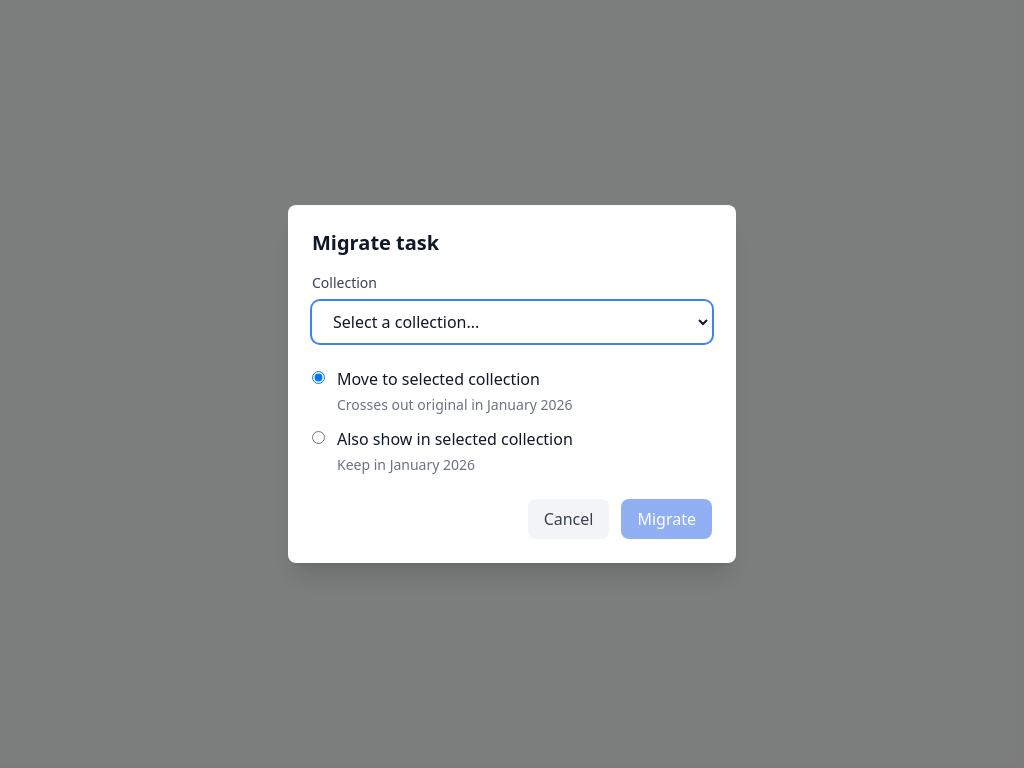
Test: MigrateEntryDialog - Error Handling › Migration Errors › should display error message when migration fails
The width and height of the screenshot is (1024, 768).
Select a collection first
Select "Saturday, January 24, 2026" in the dropdown labelled "Collection" at (512, 322), box x1=312 y1=301 x2=712 y2=343
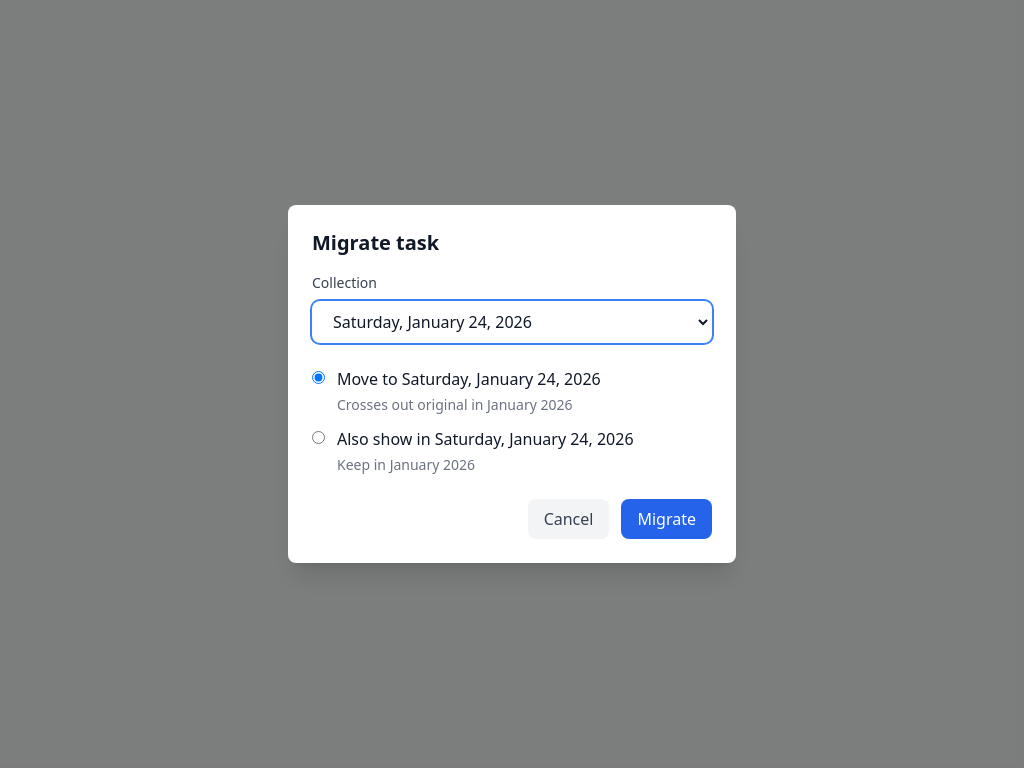
Click the button "Migrate".
click(667, 519)  # box x1=622 y1=499 x2=712 y2=539
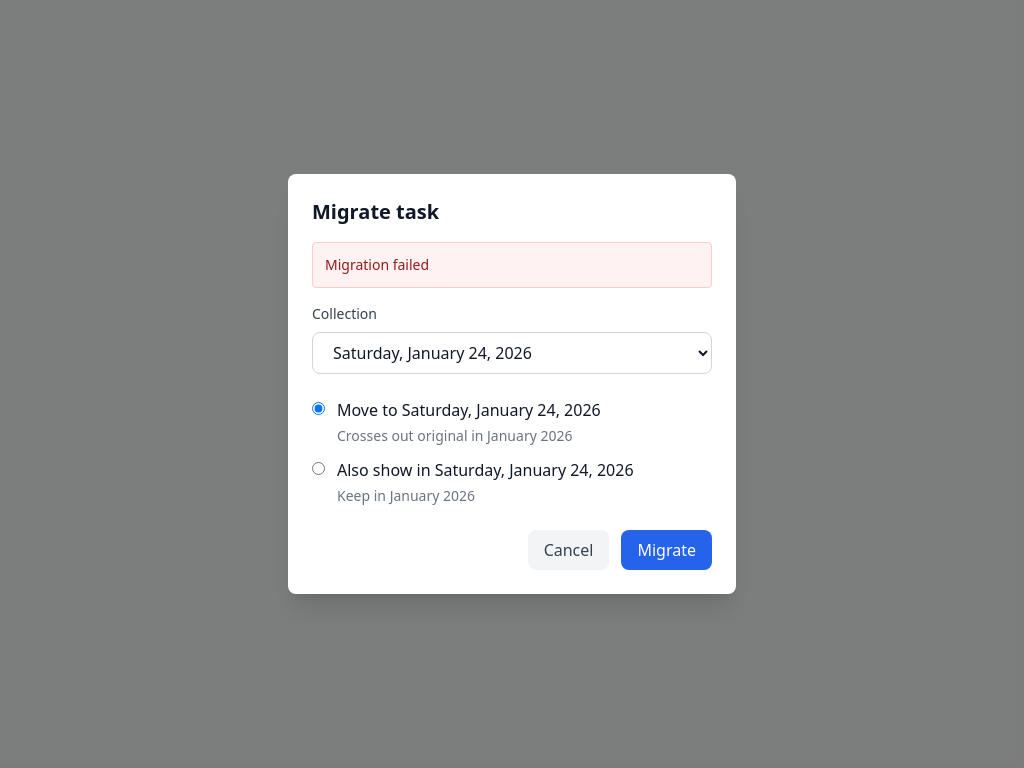
Check: the text "Migration failed" is shown, box x1=325 y1=255 x2=429 y2=274
